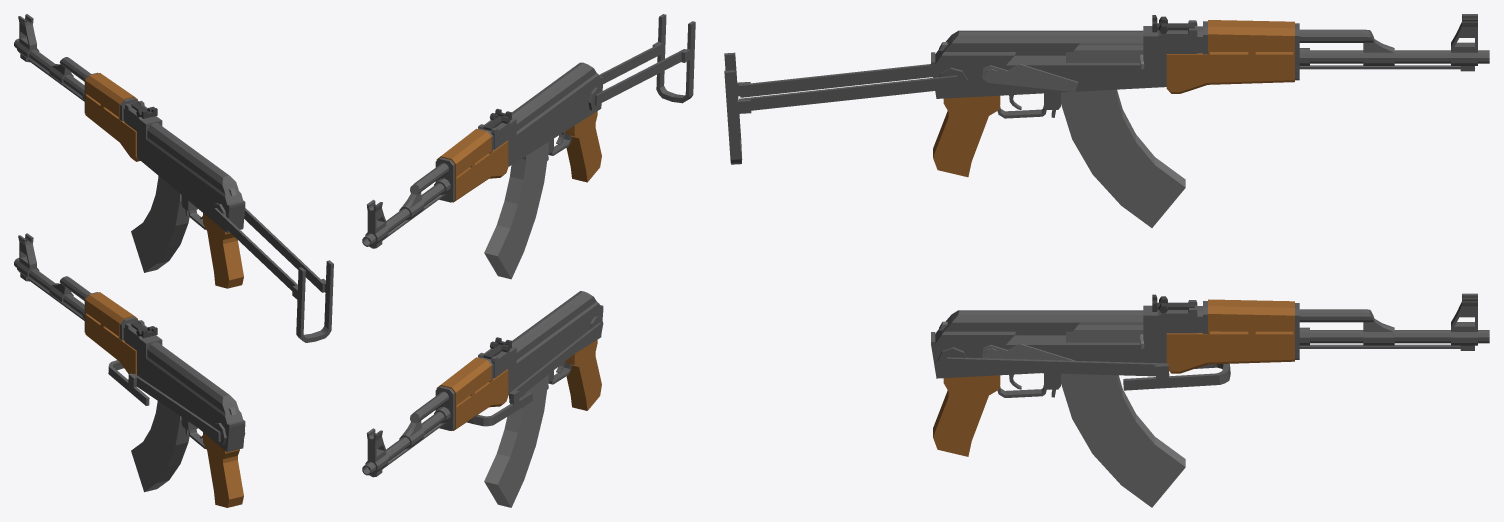
File: gun.fbx
The picture shows the model from 3 angles, left to right: view 1: azimuth 30°, elevation 25°; view 2: azimuth 150°, elevation 25°; view 3: azimuth 270°, elevation 25°; orthographic projection. The views are drawn at different scales.
Parts seen in each view (by area): view 1: AK47_folded, AK47, Magazine_folded, Magazine, Stock_folded, Stock2_folded, Stock, Stock2; view 2: AK47_folded, AK47, Magazine_folded, Magazine, Stock_folded, Stock2_folded, Stock, Stock2; view 3: AK47_folded, AK47, Magazine_folded, Magazine, Stock_folded, Stock, Stock2, Stock2_folded, Safe/Selector_folded, Bolt, Bolt_folded, Safe/Selector.
Boxes of the visible parts, <box> form: AK47_folded: <box>14,14,245,288</box>; AK47: <box>14,233,245,507</box>; Magazine_folded: <box>131,176,189,272</box>; Magazine: <box>131,401,189,492</box>; Stock_folded: <box>212,203,325,292</box>; Stock2_folded: <box>292,260,333,342</box>; Stock: <box>133,373,245,445</box>; Stock2: <box>108,360,149,405</box>; AK47_folded: <box>362,62,603,248</box>; AK47: <box>362,291,603,477</box>; Magazine_folded: <box>484,142,548,279</box>; Magazine: <box>484,374,548,507</box>; Stock_folded: <box>588,43,685,111</box>; Stock2_folded: <box>652,14,695,103</box>; Stock: <box>509,316,603,403</box>; Stock2: <box>467,390,532,426</box>; AK47_folded: <box>931,14,1489,177</box>; AK47: <box>931,293,1489,456</box>; Magazine_folded: <box>1061,89,1185,227</box>; Magazine: <box>1061,373,1185,507</box>; Stock_folded: <box>739,64,967,110</box>; Stock: <box>937,347,1167,376</box>; Stock2: <box>1123,363,1230,390</box>; Stock2_folded: <box>724,52,751,164</box>; Safe/Selector_folded: <box>982,64,1078,91</box>; Bolt: <box>1066,323,1144,348</box>; Bolt_folded: <box>1066,43,1144,69</box>; Safe/Selector: <box>982,343,1075,360</box>.
Size of the model in its own units: 5.77 by 61.59 by 87.68.
